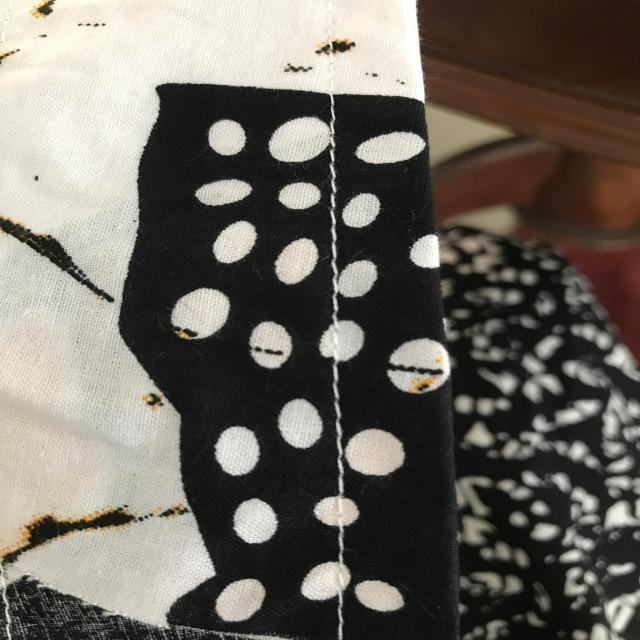good: (309, 220, 346, 268)
